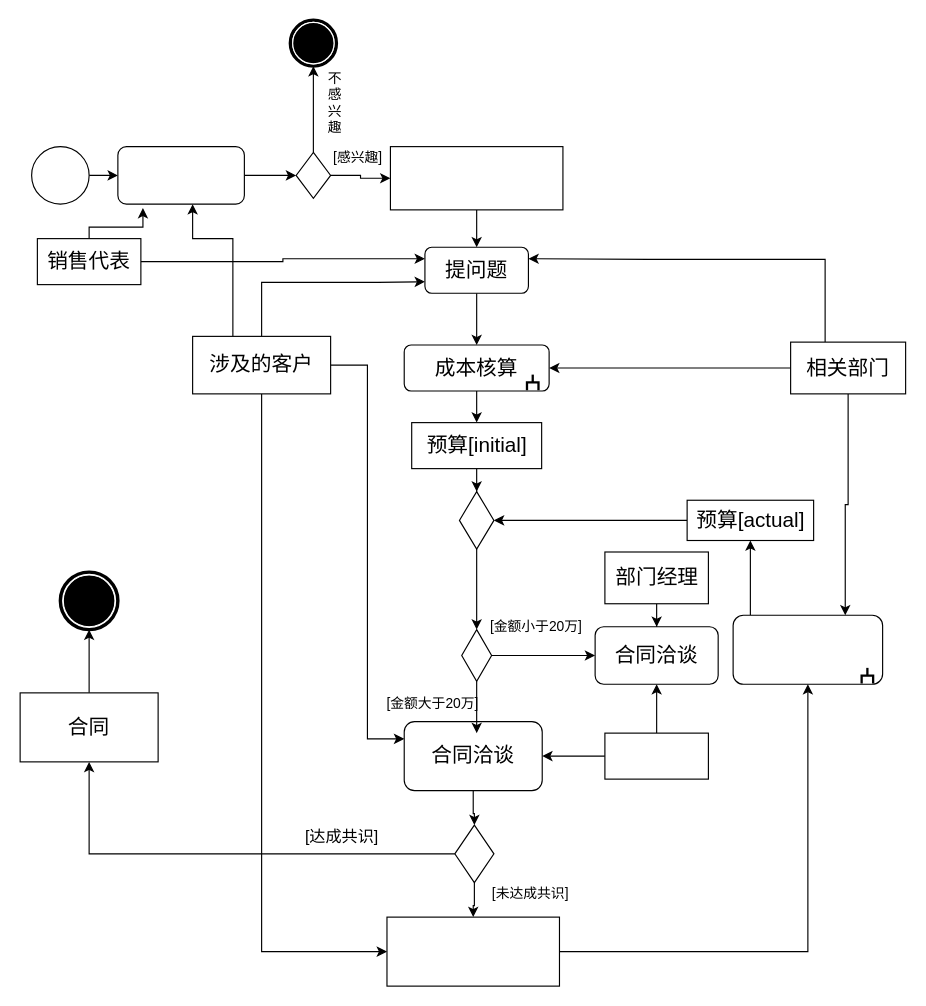
This 926x1006 diagram has some shape labels left out. Each missing label, with the centre of its shape:
具体需求[actual]: point 472,951
具体需求[initial]: point 476,177
访谈: point 180,174
重新核算成本: point 807,649
销售主管: point 656,755
